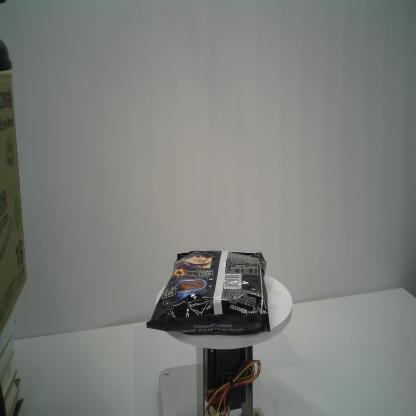Instant Noodles: (144, 247, 272, 338)
